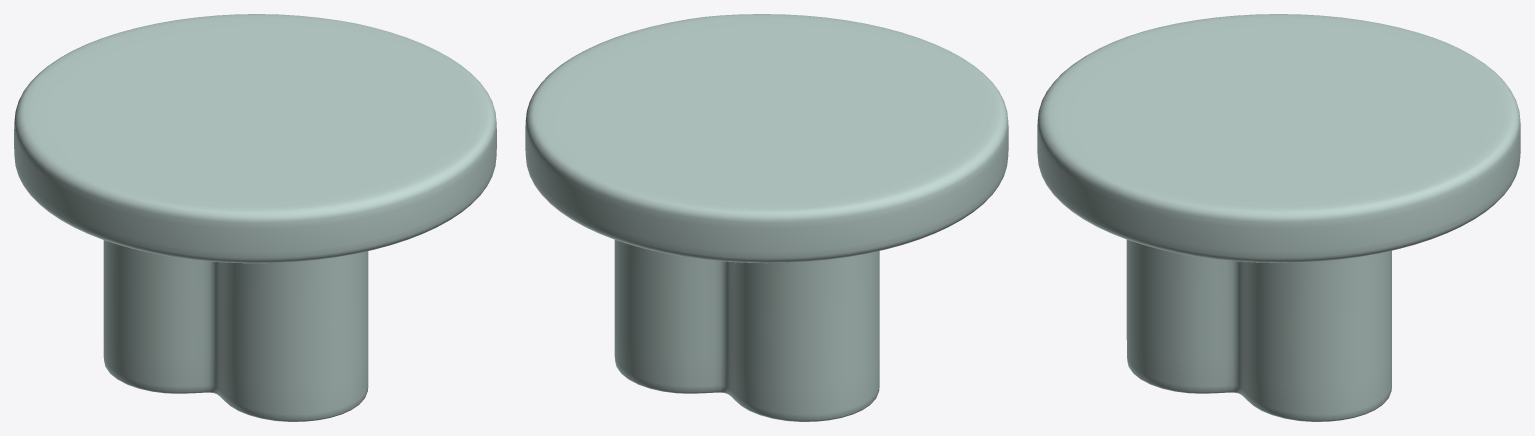
File: glass_table.glb
The picture shows the model from 3 angles, left to right: view 1: azimuth 30°, elevation 25°; view 2: azimuth 150°, elevation 25°; view 3: azimuth 270°, elevation 25°; orthographic projection.
Visible parts, largest first — view 1: Tables_Coffee-Tables_Glass-Coloured_02_Blue-Short; view 2: Tables_Coffee-Tables_Glass-Coloured_02_Blue-Short; view 3: Tables_Coffee-Tables_Glass-Coloured_02_Blue-Short.
Part boxes in pixels (<box>): Tables_Coffee-Tables_Glass-Coloured_02_Blue-Short: <box>14,14,496,421</box>; Tables_Coffee-Tables_Glass-Coloured_02_Blue-Short: <box>525,14,1008,421</box>; Tables_Coffee-Tables_Glass-Coloured_02_Blue-Short: <box>1037,14,1520,421</box>.
Bounding box in the file's own units: 0.5536 × 0.3185 × 0.5536.
